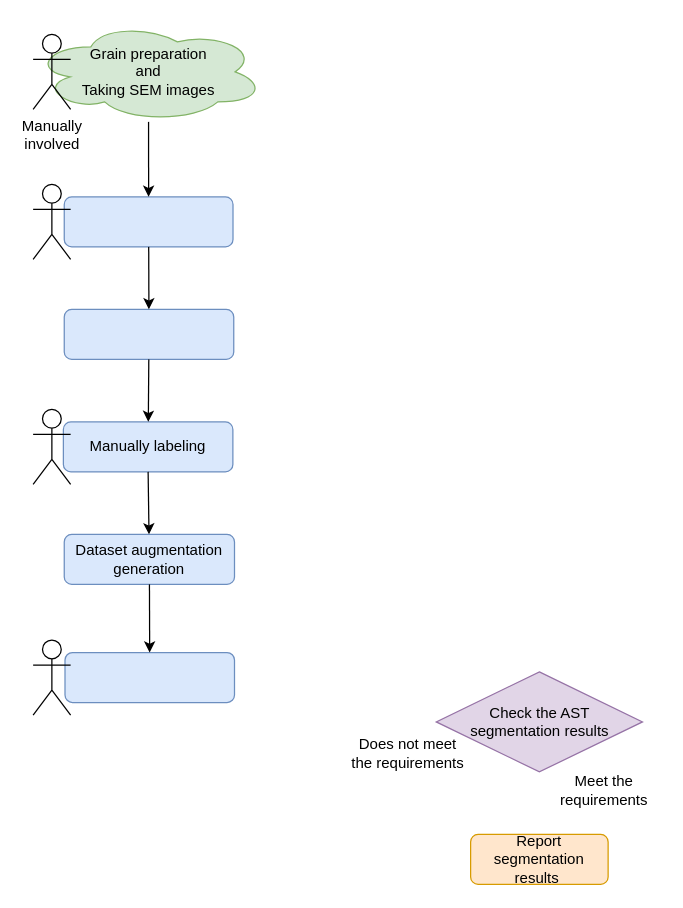
The diagram is 683 pixels wide and 908 high, and some of its shapes have lost their labels. The box of each missing label's shape, as (x1, y1, x2, y2) in pixels:
AST parameter setting or adjustment: (64, 651, 234, 702)
Cropping and grayscale generalization: (63, 308, 234, 359)
SEM image selection: (63, 196, 233, 247)
